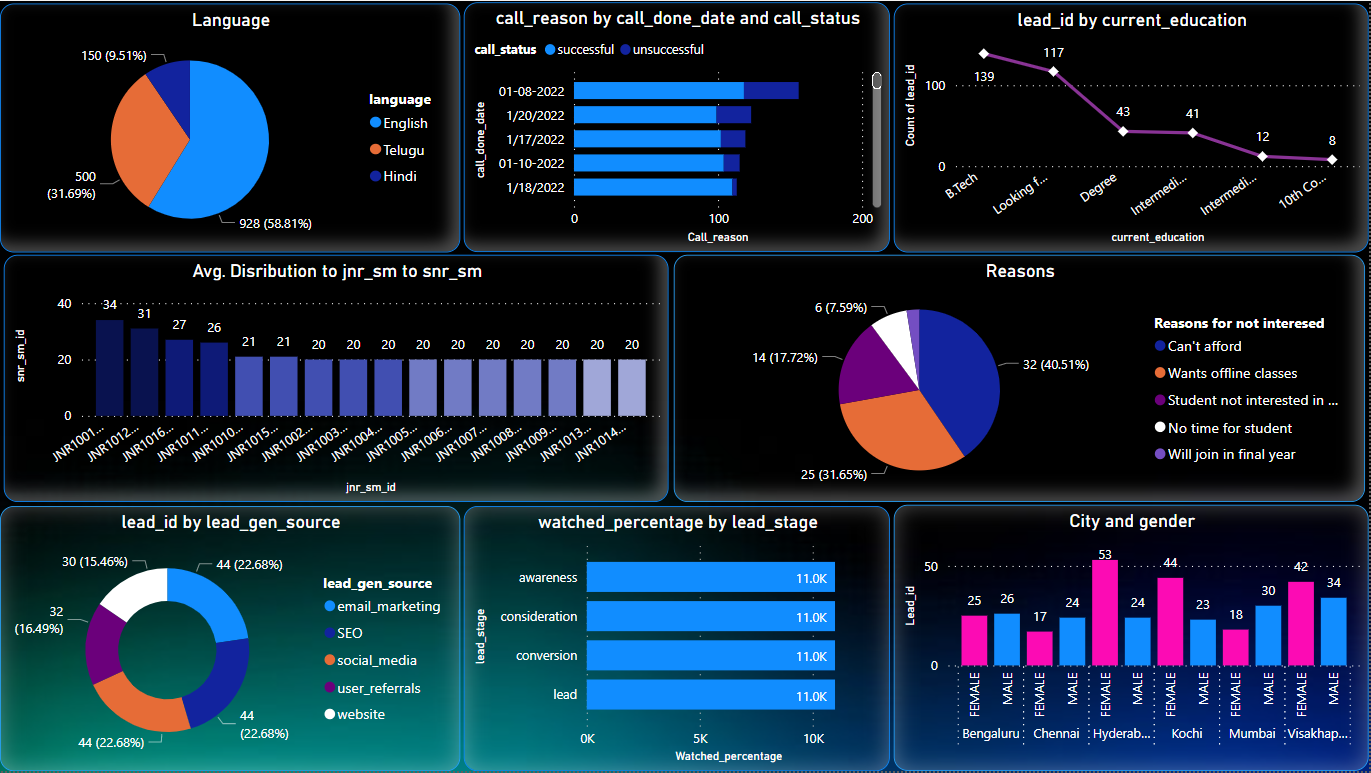

This screenshot's page, from the dashboard's own definition file:
{"tool":"powerbi","page":{"name":"Page 1","canvas":[1280,720],"ordinal":0},"visuals":[{"type":"pieChart","title":"Language","fields":{"Category":["leads_demo_watched_details.language"],"Y":["CountNonNull(leads_interaction_details.lead_id)"]},"box":[0,2.3,430.1,232.6],"z":0},{"type":"donutChart","title":"lead_id by lead_gen_source","fields":{"Category":["leads_basic_details.lead_gen_source"],"Y":["CountNonNull(leads_demo_watched_details.lead_id)"]},"box":[0,472.2,430.1,247.8],"z":1000},{"type":"lineChart","title":"lead_id by current_education","fields":{"Category":["leads_basic_details.current_education"],"Y":["CountNonNull(leads_basic_details.lead_id)"]},"box":[835.7,2.3,444.2,232.6],"z":2000},{"type":"columnChart","title":"City and gender","fields":{"Category":["leads_basic_details.current_city","leads_basic_details.gender"],"Y":["CountNonNull(leads_basic_details.lead_id)"]},"box":[835.8,471,444.2,249],"z":3000},{"type":"clusteredBarChart","title":"watched_percentage by lead_stage","fields":{"Category":["leads_interaction_details.lead_stage"],"Y":["Sum(leads_demo_watched_details.watched_percentage)"]},"box":[433.6,472.2,398.6,247.8],"z":4000},{"type":"pieChart","title":"Reasons","fields":{"Category":["leads_reasons_for_no_interest.reasons_for_not_interested_to_consider","leads_reasons_for_no_interest.reasons_for_not_interested_to_convert","leads_reasons_for_no_interest.reasons_for_not_interested_in_demo"],"Y":["CountNonNull(leads_reasons_for_no_interest.lead_id)"]},"box":[630,237,646,231.4],"z":5000},{"type":"lineClusteredColumnComboChart","title":"Avg. Disribution to jnr_sm to snr_sm","fields":{"Category":["sales_managers_assigned_leads_details.jnr_sm_id"],"Y":["CountNonNull(sales_managers_assigned_leads_details.snr_sm_id)"]},"box":[3.5,237.3,621.8,231.4],"z":6000},{"type":"barChart","title":"call_reason by call_done_date and call_status","fields":{"Category":["leads_interaction_details.call_done_date"],"Series":["leads_interaction_details.call_status"],"Y":["CountNonNull(leads_interaction_details.call_reason)"]},"box":[433.6,1.2,398.6,233.8],"z":6001}]}

Visuals, with their boxes in screenshot pixels (x1, y1, x2, y2), scaled from the page's 1280x720 canvas onto the 1371x773 screenshot:
"Language" pieChart: x1=0 y1=2 x2=461 y2=252
"lead_id by lead_gen_source" donutChart: x1=0 y1=507 x2=461 y2=772
"lead_id by current_education" lineChart: x1=895 y1=2 x2=1370 y2=252
"City and gender" columnChart: x1=895 y1=506 x2=1370 y2=772
"watched_percentage by lead_stage" clusteredBarChart: x1=464 y1=507 x2=891 y2=772
"Reasons" pieChart: x1=675 y1=254 x2=1367 y2=503
"Avg. Disribution to jnr_sm to snr_sm" lineClusteredColumnComboChart: x1=4 y1=255 x2=670 y2=503
"call_reason by call_done_date and call_status" barChart: x1=464 y1=1 x2=891 y2=252
